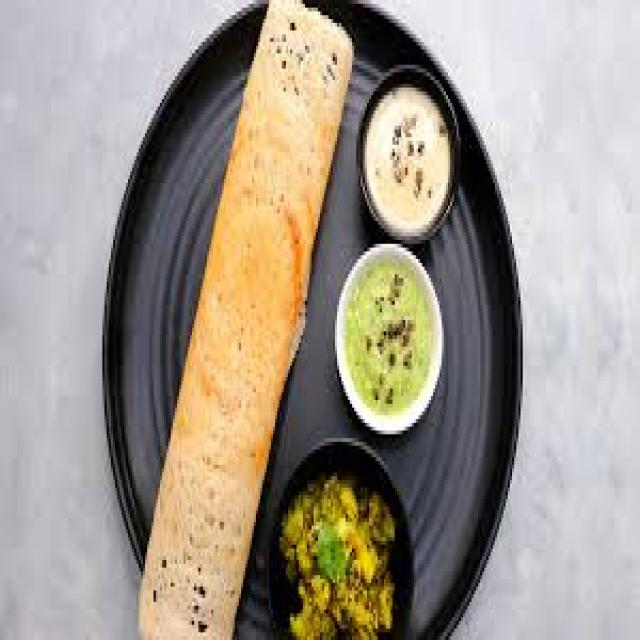DOSA: (130, 0, 354, 636)
